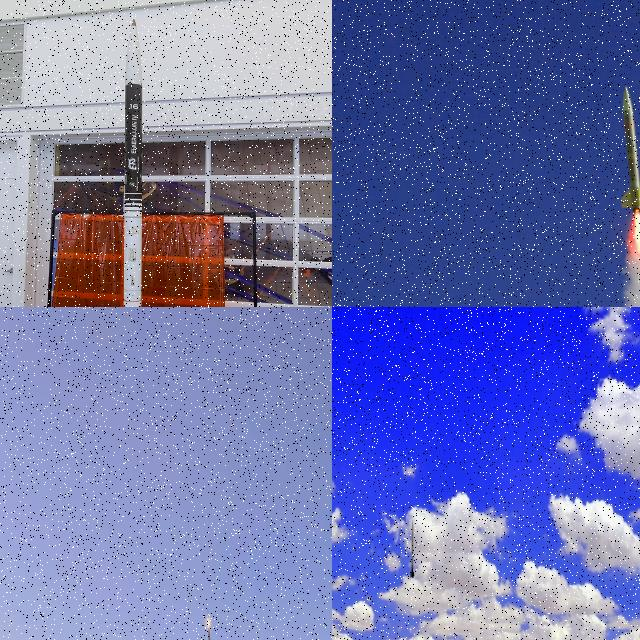Rocket: (124, 19, 143, 307), (620, 85, 640, 213), (410, 519, 415, 578), (207, 606, 210, 620)
